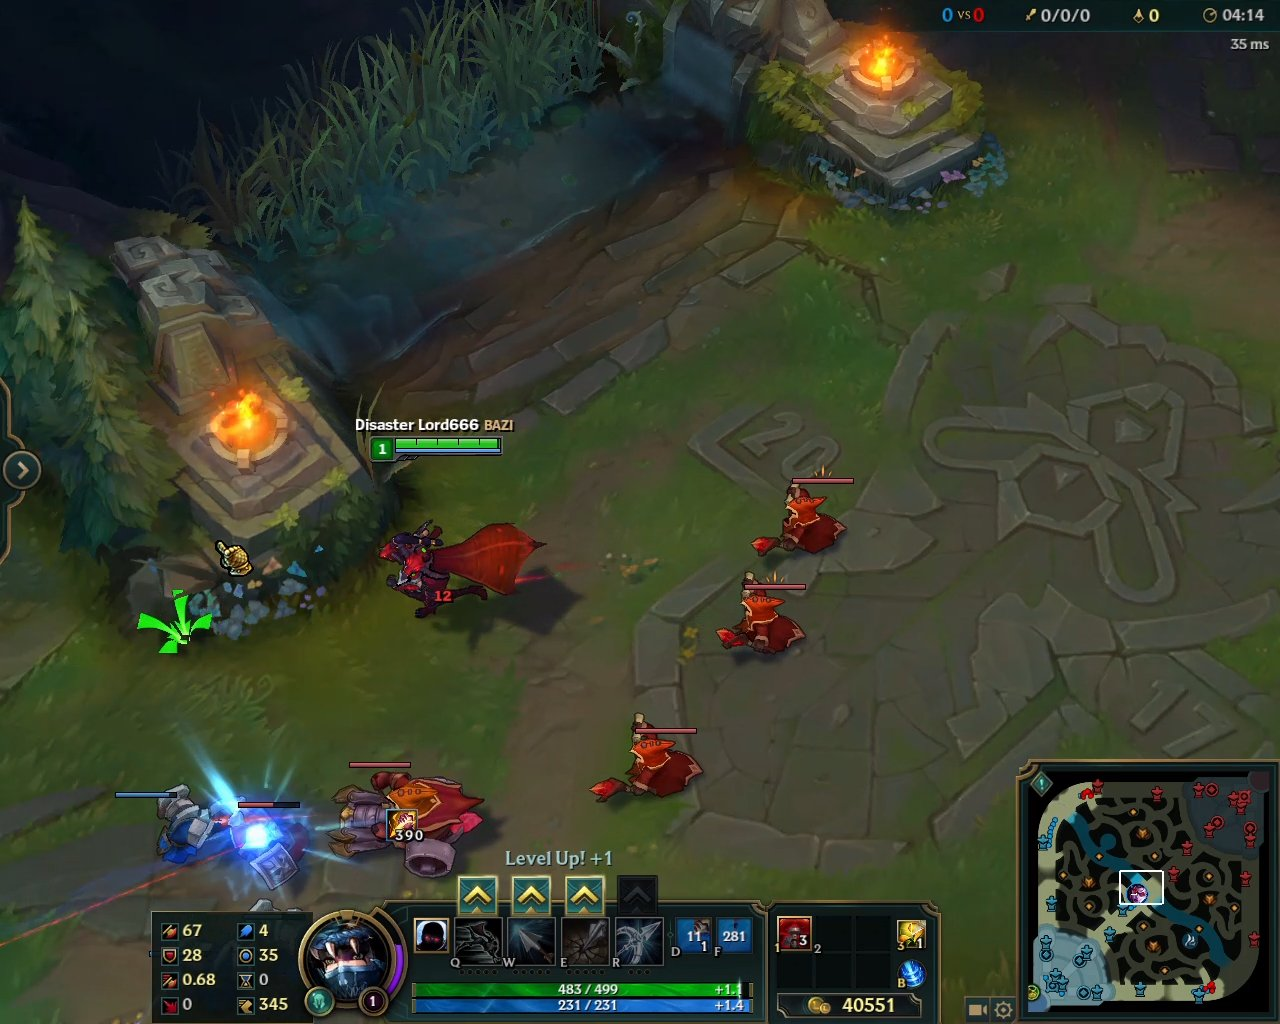EnemyMinion: (324, 757, 492, 879), (583, 712, 712, 806), (751, 475, 854, 563), (720, 569, 817, 661), (229, 799, 303, 891)
Vayne: (371, 512, 546, 632)
